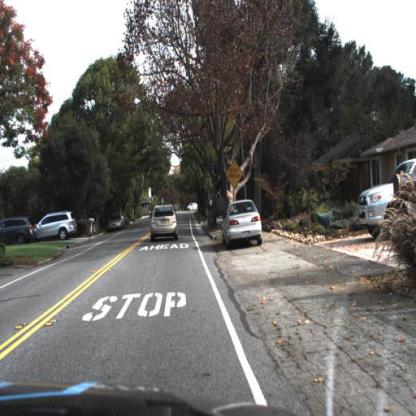car: (358, 157, 416, 247), (222, 195, 266, 251), (36, 211, 80, 240), (149, 205, 179, 245), (2, 215, 36, 249), (188, 199, 200, 217)
